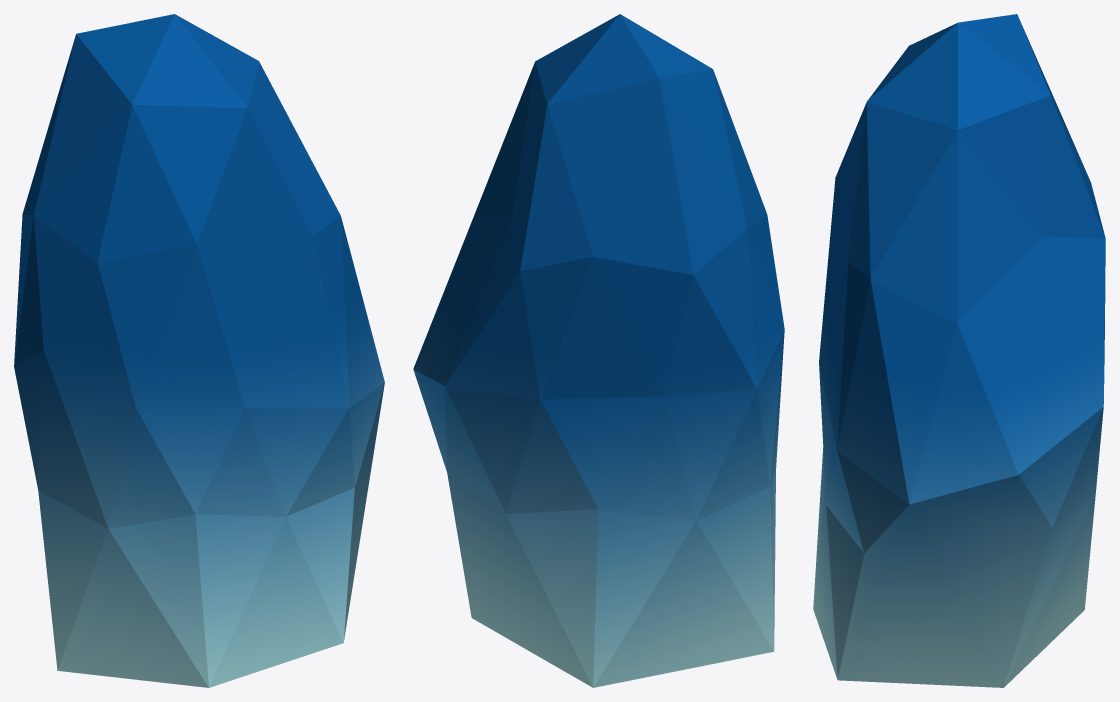
File: IceStone01.fbx
The picture shows the model from 3 angles, left to right: view 1: azimuth 30°, elevation 25°; view 2: azimuth 150°, elevation 25°; view 3: azimuth 270°, elevation 25°; orthographic projection.
Visible parts, largest first — view 1: IceStone01; view 2: IceStone01; view 3: IceStone01.
Part boxes in pixels (x1,y1,x2,y2): IceStone01: [14, 14, 384, 687]; IceStone01: [413, 14, 784, 687]; IceStone01: [813, 14, 1105, 687].
Size of the model in its own units: 2.81 by 4.92 by 2.15.
